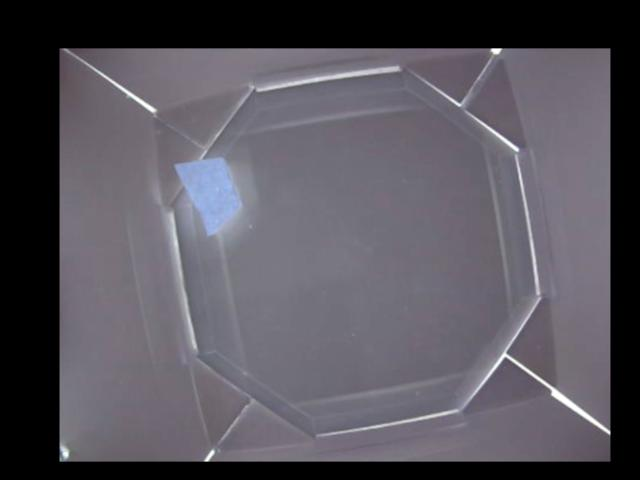China: (174, 157, 243, 237)
